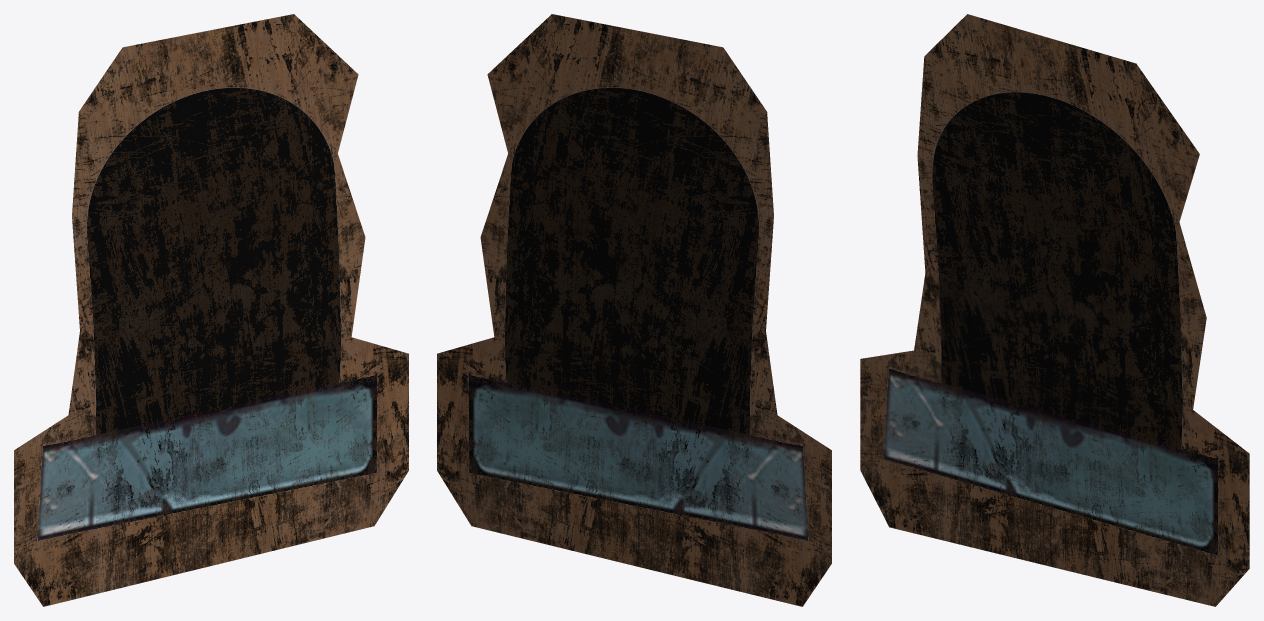
The model's file is Puerta.fbx.
3 renders of one model, left to right at view 1: azimuth 30°, elevation 25°; view 2: azimuth 150°, elevation 25°; view 3: azimuth 330°, elevation 25°, orthographic.
Parts seen in each view (by area): view 1: Puerta; view 2: Puerta; view 3: Puerta.
Part boxes in pixels (left/top/right/bottom): Puerta: left=14, top=14, right=408, bottom=606; Puerta: left=437, top=14, right=831, bottom=606; Puerta: left=860, top=14, right=1249, bottom=606.
Size of the model in its own units: 218 by 285 by 1.24e-05.
Materials: 1 (1 with a texture image).
